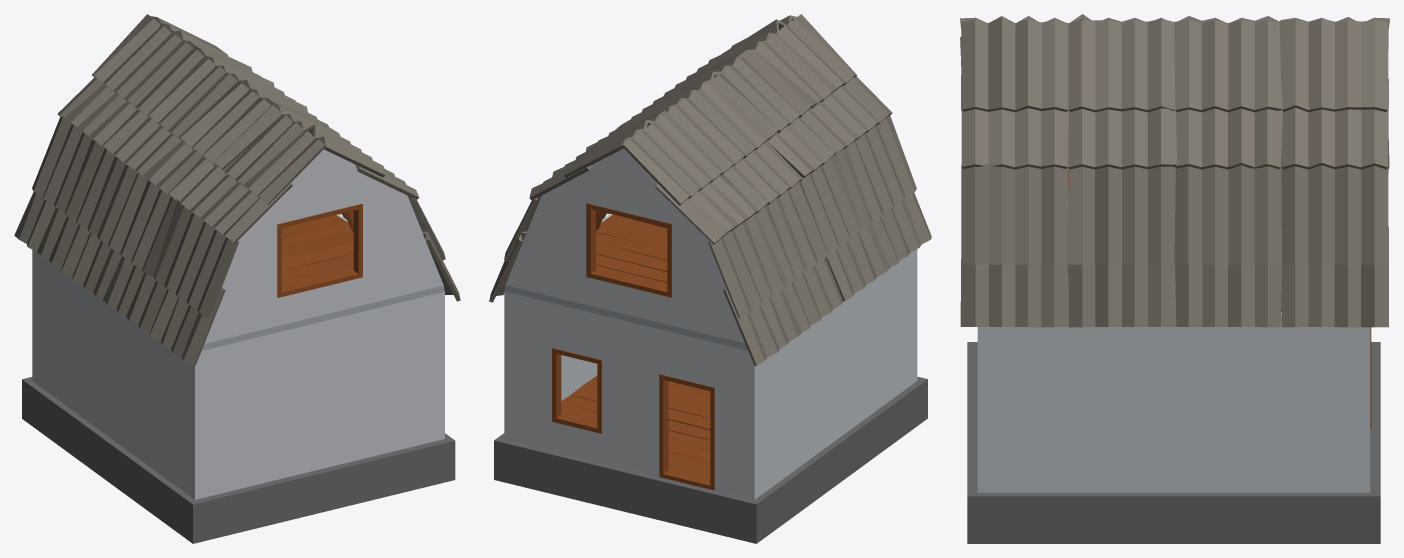
File: будівля 3.fbx
The picture shows the model from 3 angles, left to right: view 1: azimuth 30°, elevation 25°; view 2: azimuth 150°, elevation 25°; view 3: azimuth 270°, elevation 25°; orthographic projection. The views are drawn at different scales.
Visible parts, largest first — view 1: будинок 3; view 2: будинок 3; view 3: будинок 3.
Part boxes in pixels (x1=…): будинок 3: x1=14, y1=14, x2=460, y2=543; будинок 3: x1=489, y1=14, x2=931, y2=543; будинок 3: x1=960, y1=14, x2=1389, y2=543.
Size of what is drawn, in the model's own units: 4092 by 5259 by 4513.
